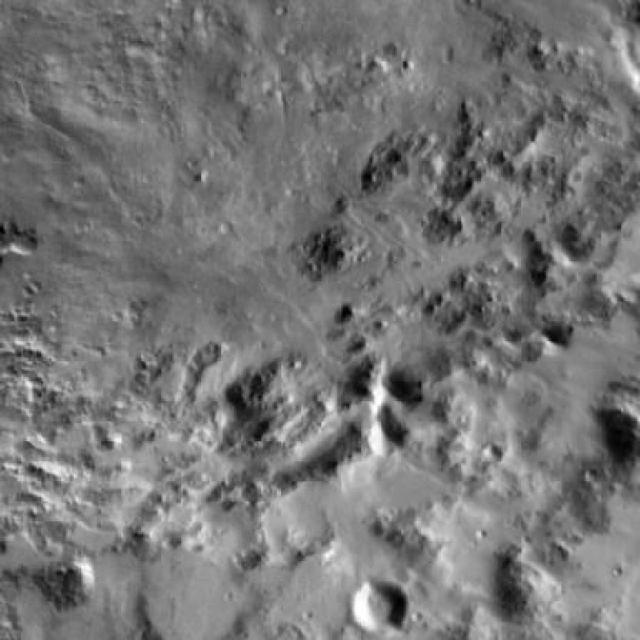crater: (340, 581, 402, 637)
